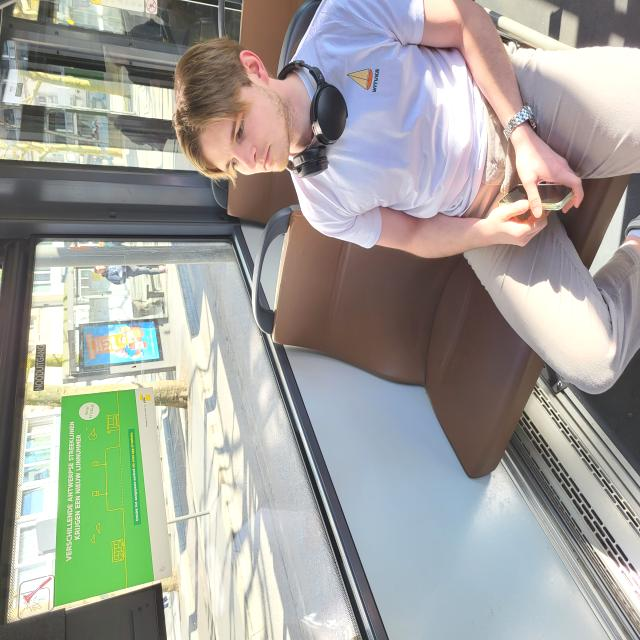asiento-libre: (120, 335, 327, 640), (120, 336, 327, 640)
